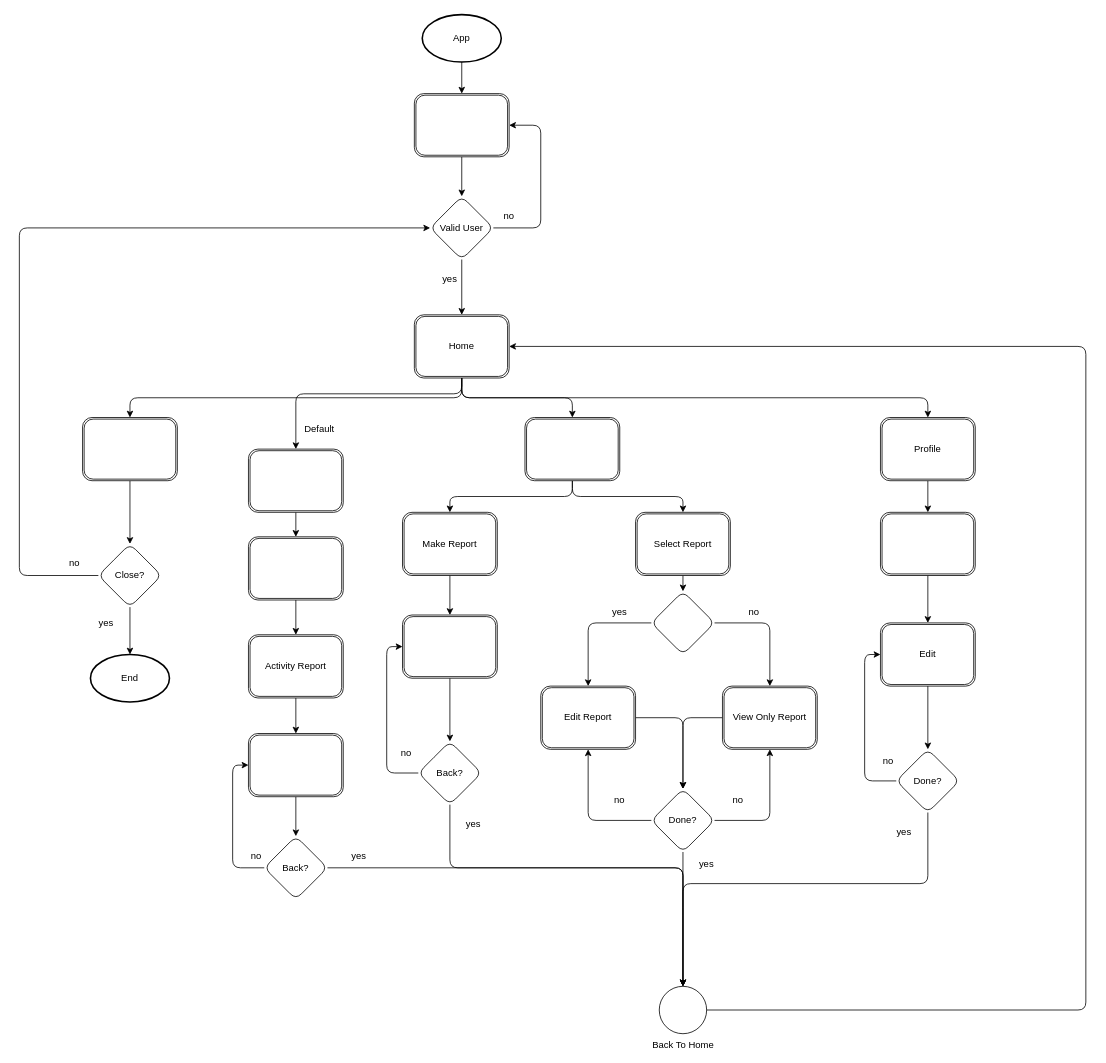
Image size: 1106x1063. Some labels were removed from this diagram. The shapes that lost their labels are listed below. From the top down, each one's centre as x and y in pixels, then its label:
At [461,125]: "Login".
At [129,449]: "Logout".
At [572,449]: "Attendance History".
At [295,480]: "Today's Report".
At [927,544]: "User's Profile".
At [295,568]: "Check In".
At [683,623]: "Today?".
At [449,646]: "Save as PDF".
At [295,765]: "Check out".
